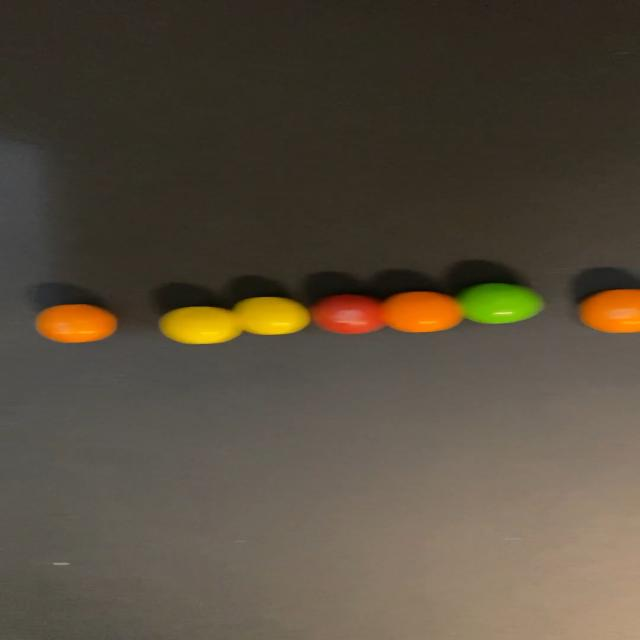smartie: (457, 283, 543, 324), (381, 292, 463, 332), (35, 304, 116, 343), (158, 307, 241, 344), (309, 294, 385, 334), (232, 297, 310, 335), (580, 289, 640, 333)
